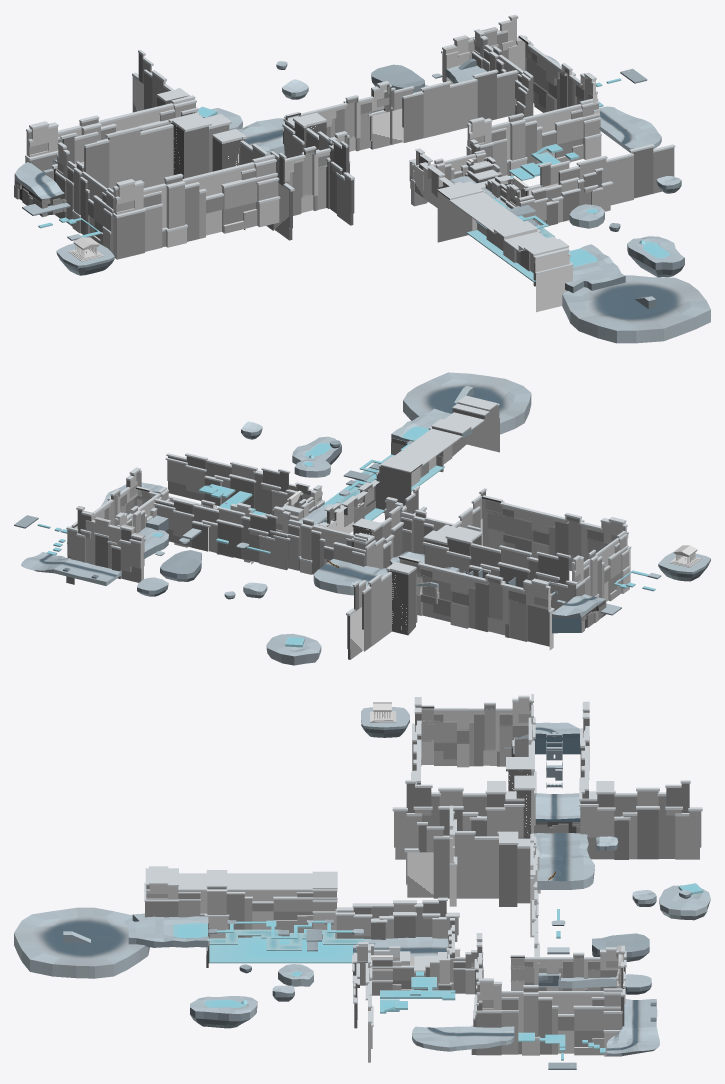
File: BaseNivel2.obj
The picture shows the model from 3 angles, top to bottom: view 1: azimuth 30°, elevation 25°; view 2: azimuth 150°, elevation 25°; view 3: azimuth 270°, elevation 25°; orthographic projection. The views are drawn at different scales.
Visible parts, largest first — view 1: Cube.160, 8_pared.012, Cube.319, Cube.321, 8_pared.011, Cube.326, 8_pared.008, Cube.331, Cube.015, 8_pared.014, Cube.327, 8_pared.007 (+19 smaller); view 2: Cube.331, Cube.160, Cube.321, 8_pared.012, 8_pared.011, 8_pared.008, 8_pared.015, Cube.319, Cube.329, 8_pared.009, Cube.015, 8_pared.014 (+20 smaller); view 3: Cube.321, Cube.327, 8_pared.015, 8_pared.014, Cube.319, Cube.015, 8_pared.013, 8_pared.006, Cube.184, Cube.325, Cube.328, Cube.129 (+20 smaller).
Boxes of the visible parts, box(x1,y1,x2,y2) form: Cube.160: box(112, 154, 280, 259); 8_pared.012: box(48, 113, 231, 215); Cube.319: box(562, 275, 710, 343); Cube.321: box(437, 181, 573, 312); 8_pared.011: box(368, 69, 518, 149); Cube.326: box(466, 98, 601, 176); 8_pared.008: box(523, 144, 675, 205); Cube.331: box(25, 95, 196, 179); Cube.015: box(55, 142, 114, 253); 8_pared.014: box(282, 112, 354, 225); Cube.327: box(518, 35, 600, 116); 8_pared.007: box(518, 168, 613, 225); Cube.331: box(399, 555, 554, 650); Cube.160: box(482, 495, 631, 582); Cube.321: box(375, 395, 500, 512); 8_pared.012: box(422, 526, 577, 611); 8_pared.011: box(153, 498, 290, 570); 8_pared.008: box(165, 453, 303, 515); 8_pared.015: box(346, 562, 417, 659); Cube.319: box(403, 372, 531, 434); Cube.329: box(270, 506, 368, 574); 8_pared.009: box(66, 507, 143, 582); Cube.015: box(572, 531, 630, 601); 8_pared.014: box(351, 486, 426, 568); Cube.321: box(144, 866, 337, 939); Cube.327: box(475, 978, 622, 1056); 8_pared.015: box(579, 780, 702, 859); 8_pared.014: box(404, 822, 536, 906); Cube.319: box(14, 907, 149, 978); Cube.015: box(421, 695, 531, 767); 8_pared.013: box(392, 780, 524, 859); 8_pared.006: box(335, 897, 459, 941); Cube.184: box(531, 833, 594, 889); Cube.325: box(371, 950, 483, 995); Cube.328: box(510, 947, 618, 990); Cube.129: box(209, 936, 369, 963).
Bounding box in the file's own units: 529 × 93.16 × 490.
